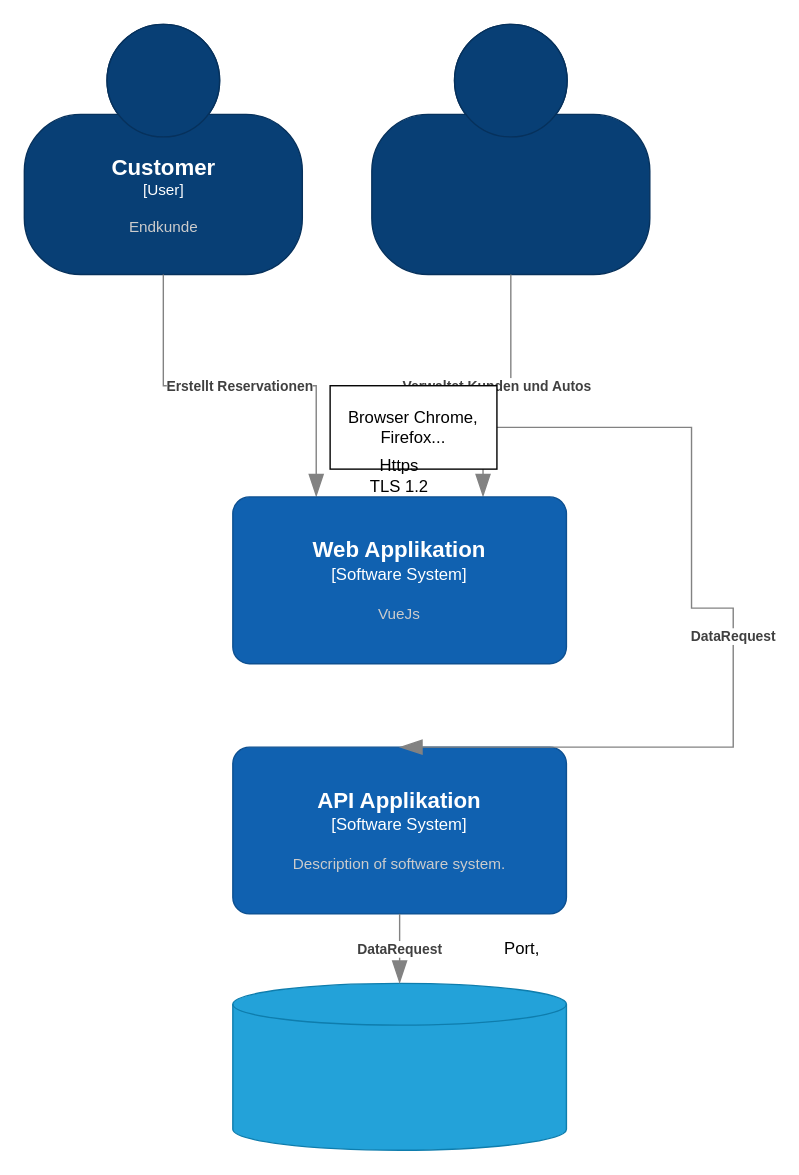
The diagram is 799 pixels wide and 1175 high, and some of its shapes have lost their labels. The shapes that lost their labels are listed below. From the top down, each one's centre as x and y in pixels, then its label:
At pixel 510 149: "Sachbearbeiter [User] Änderung an Systemdaten".
At pixel 398 1066: "Database [Container : e.g. Oracle Database 12] MSSQL Express".
